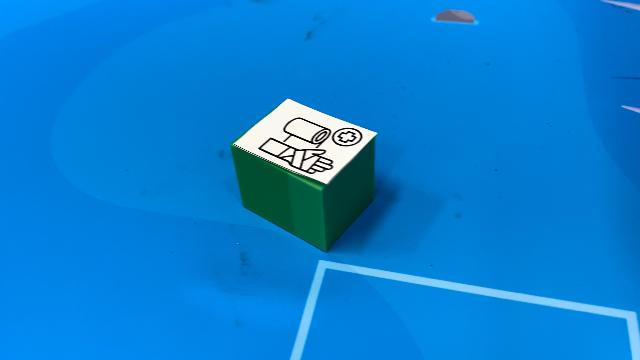bandage: (230, 98, 378, 252)
